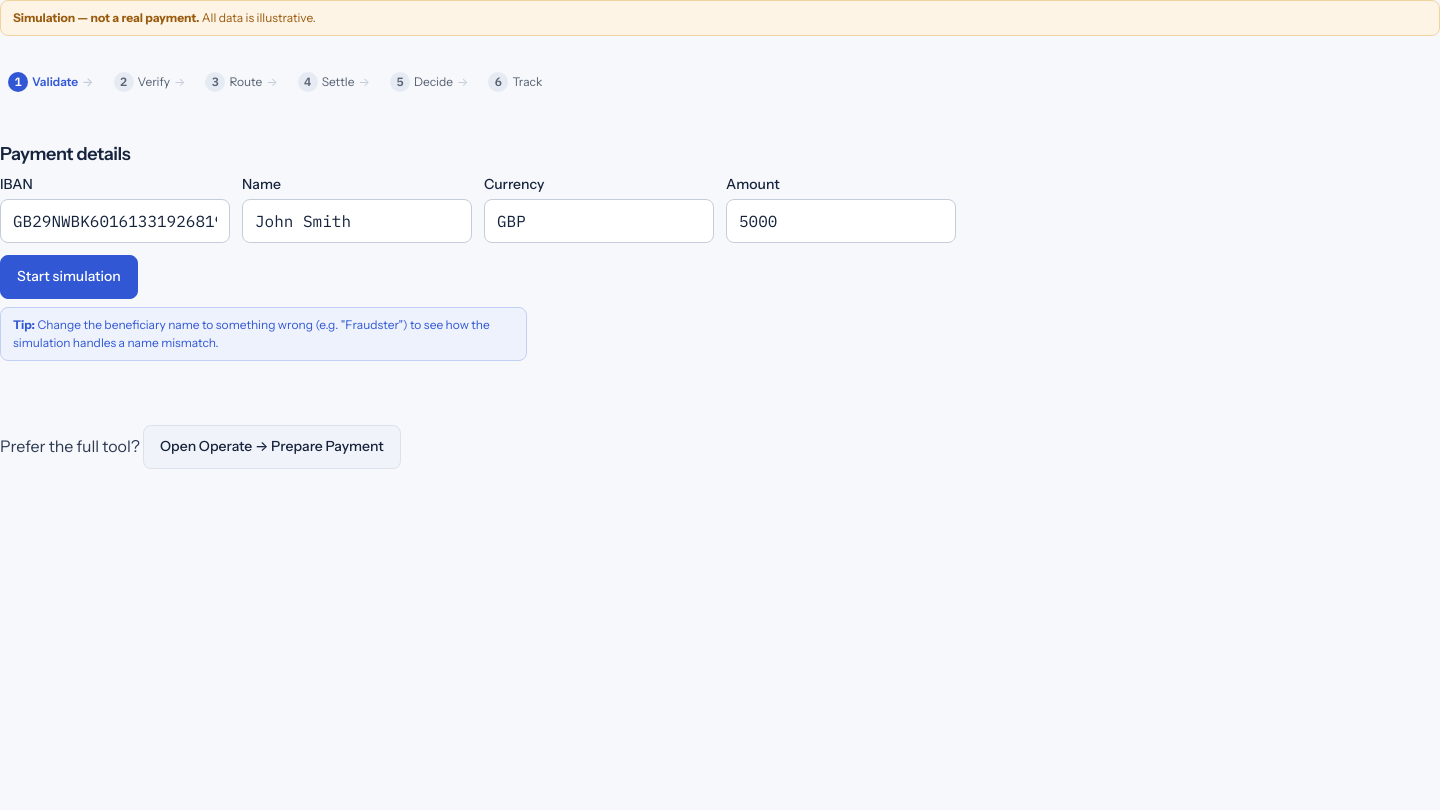
Test: CapstoneContent › shows the recommendation after the decide step
The width and height of the screenshot is (1440, 810).
Click the button "Start simulation" at (69, 277), box [0, 255, 138, 299]
(page scrolled)
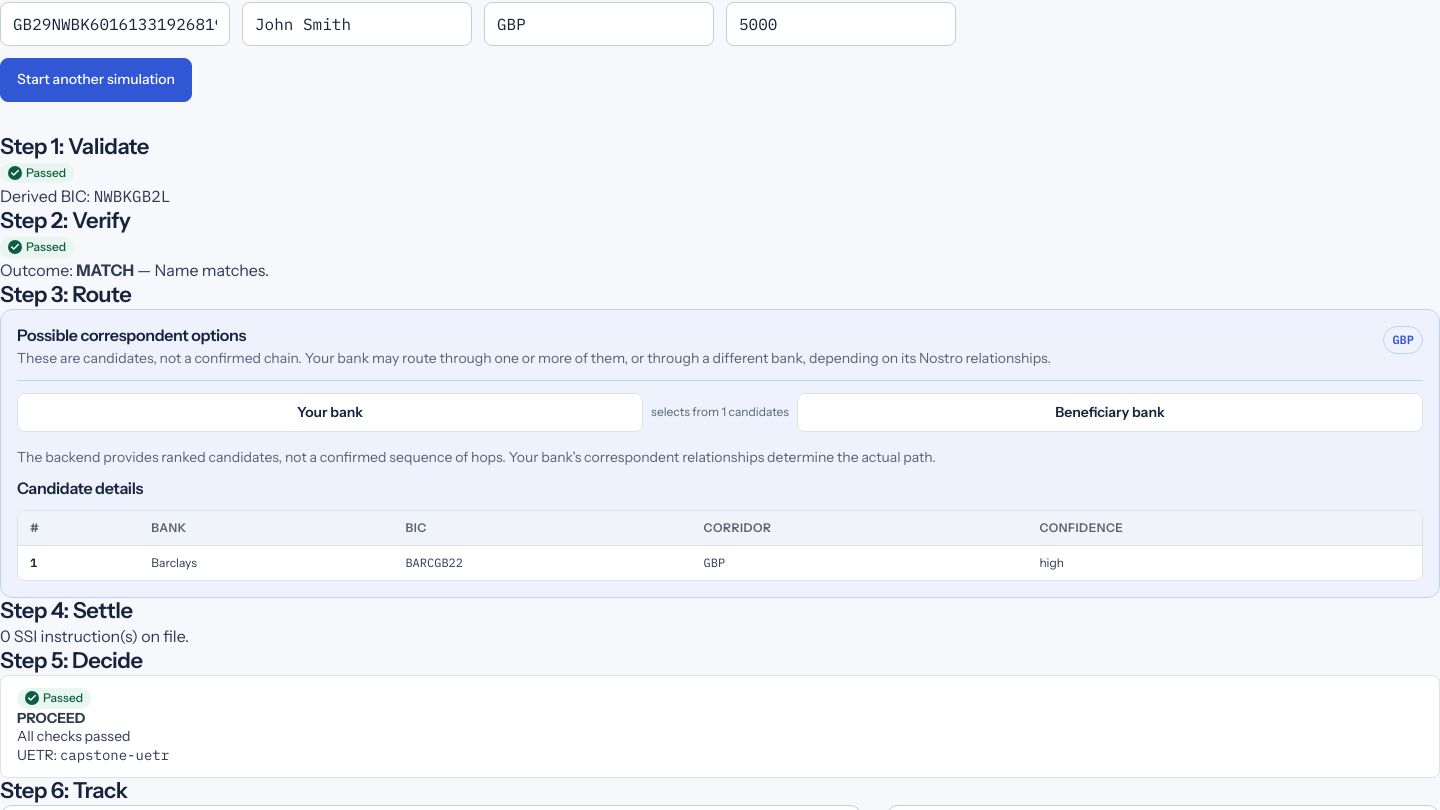
Result: the text "PROCEED" is shown at [17, 708, 86, 726]
